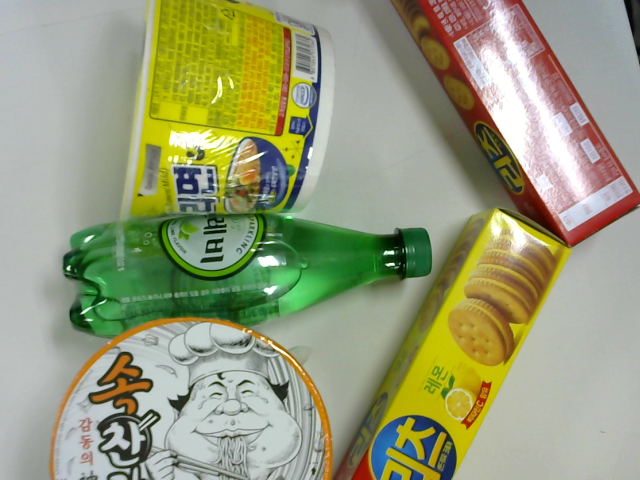Hejangchan: (47, 306, 332, 480)
Jinlamyeon_Mild_Taste_Large_Cup: (125, 1, 341, 222)
Ritz_Cracker: (365, 1, 639, 245)
Ritz_Remon_96g: (332, 214, 579, 480)
Treviraim_500ml: (54, 215, 443, 345)
